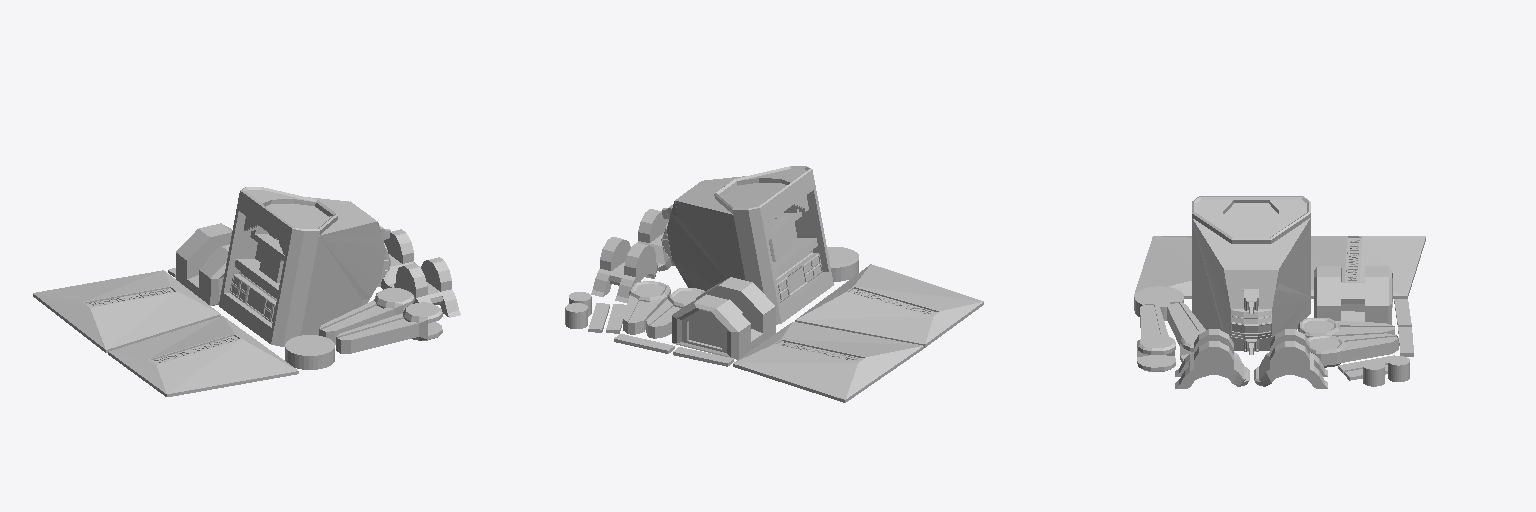
File: Bush Walker.obj
The picture shows the model from 3 angles: view 1: azimuth 30°, elevation 25°; view 2: azimuth 150°, elevation 25°; view 3: azimuth 270°, elevation 25°; orthographic projection.
Visible parts, largest first — view 1: Text.001_CUText.001, Text.002_CUText.003, Text.000_CUText.002, Cube.003, Cube.004, Cube.001, Cylinder; view 2: Text.001_CUText.001, Text.000_CUText.002, Text.002_CUText.003, Cube.001, Cube.004, Cube.002, Cube.005_Cube.006, Cylinder, Cylinder.001, Cube_Cube.005; view 3: Text.001_CUText.001, Cube.004, Text.000_CUText.002, Cube.001, Cube.002, Cube.003, Text.002_CUText.003, Cylinder.001, Cylinder, Cube.005_Cube.006.
Part boxes in pixels (x1,y1,x2,y2): Text.001_CUText.001: (219,187,390,346); Text.002_CUText.003: (108,316,298,396); Text.000_CUText.002: (33,270,220,352); Cube.003: (319,288,442,353); Cube.004: (381,229,460,317); Cube.001: (176,223,232,305); Cylinder: (285,335,334,369); Text.001_CUText.001: (661,166,833,324); Text.000_CUText.002: (733,322,923,402); Text.002_CUText.003: (795,264,983,347); Cube.001: (672,277,775,359); Cube.004: (591,209,671,302); Cube.002: (623,281,704,338); Cube.005_Cube.006: (614,334,733,366); Cylinder: (827,247,858,281); Cylinder.001: (565,292,591,328); Cube_Cube.005: (588,303,626,333); Text.001_CUText.001: (1192,196,1310,354); Cube.004: (1175,329,1327,388); Text.000_CUText.002: (1311,236,1425,298); Cube.001: (1314,266,1392,324); Cube.002: (1298,318,1398,367); Cube.003: (1137,302,1205,371); Text.002_CUText.003: (1134,236,1191,298); Cylinder.001: (1363,356,1409,386); Cylinder: (1134,286,1183,320); Cube.005_Cube.006: (1394,299,1413,356).
Size of the model in its own units: 5.94 by 2.17 by 4.91.